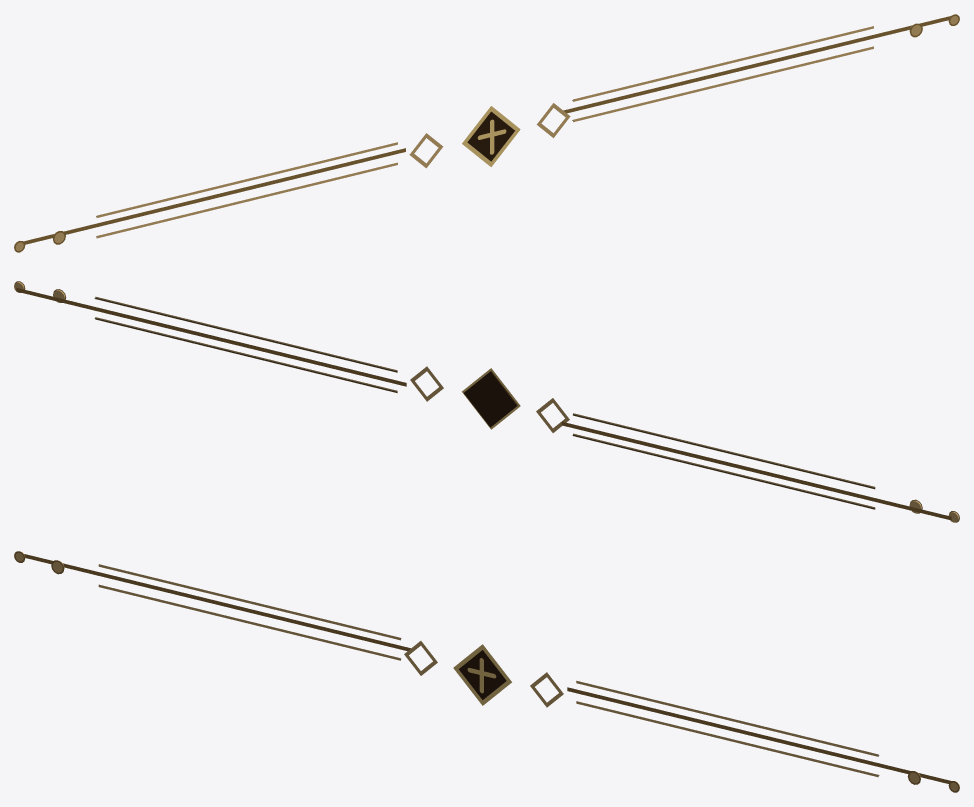
The model's file is ui-divider-ornament.glb.
The picture shows the model from 3 angles, top to bottom: view 1: azimuth 30°, elevation 25°; view 2: azimuth 150°, elevation 25°; view 3: azimuth 330°, elevation 25°; orthographic projection.
Parts seen in each view (by area): view 1: ui-divider-ornament; view 2: ui-divider-ornament; view 3: ui-divider-ornament.
Boxes of the visible parts, bbox=[...] form: ui-divider-ornament: bbox=[14, 14, 959, 252]; ui-divider-ornament: bbox=[14, 281, 959, 522]; ui-divider-ornament: bbox=[14, 551, 959, 792].
Bounding box in the file's own units: 4.86 × 0.3033 × 0.075.
